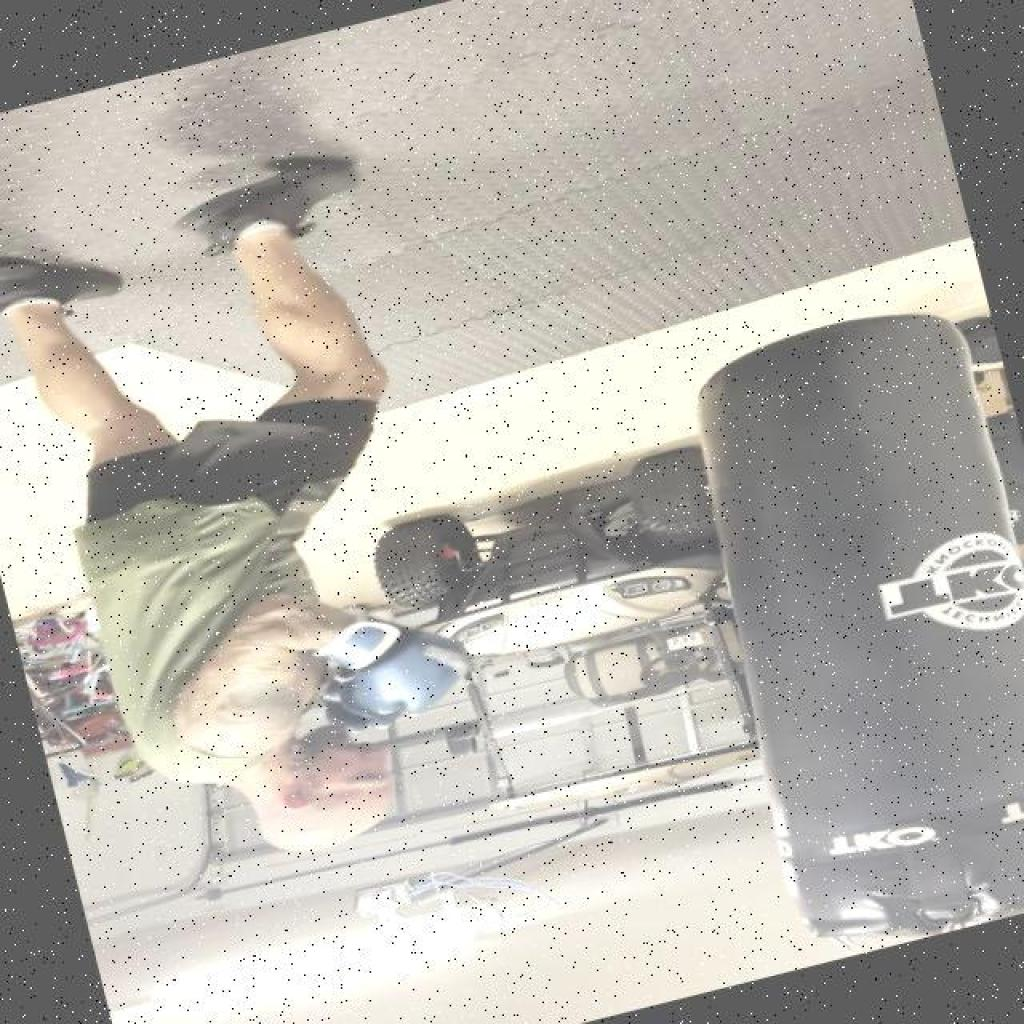bag: (641, 286, 1024, 955)
no punch: (83, 550, 514, 896)
